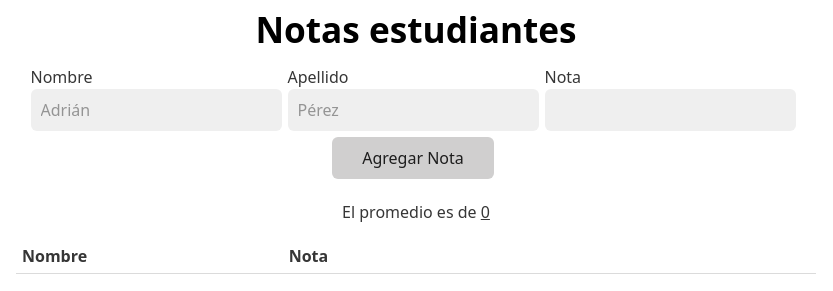
input nombre no permite más de 15 carácteres
The width and height of the screenshot is (833, 291).
Ingresar un valor largo
Type "abcdefghijklmnñop" into the field labelled "Nombre" at (156, 110), box left=30, top=89, right=282, bottom=131
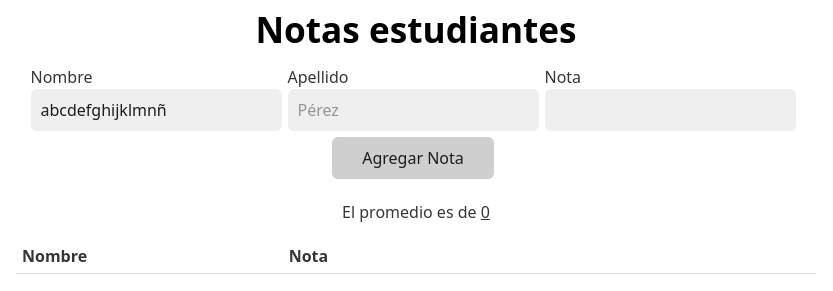
Check: the field labelled "Nombre" holds "abcdefghijklmnñ", box left=30, top=89, right=282, bottom=131
